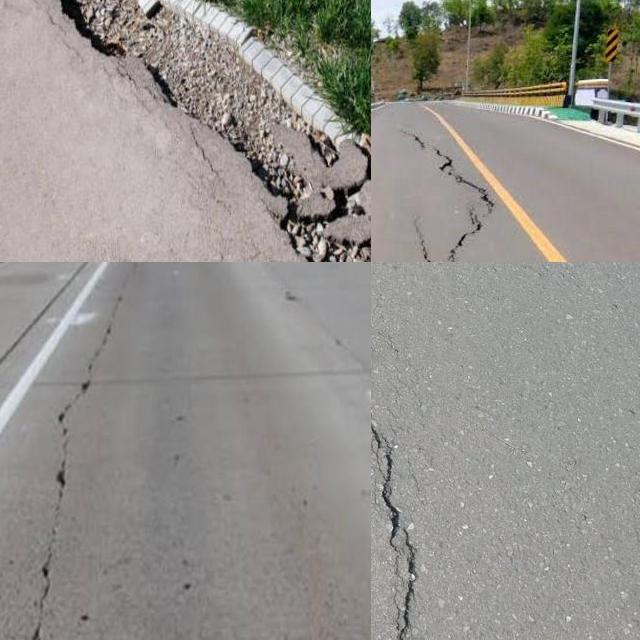Memanjang: (8, 262, 146, 640), (371, 370, 427, 640), (396, 122, 501, 262)
Pinggir: (51, 0, 371, 262)
